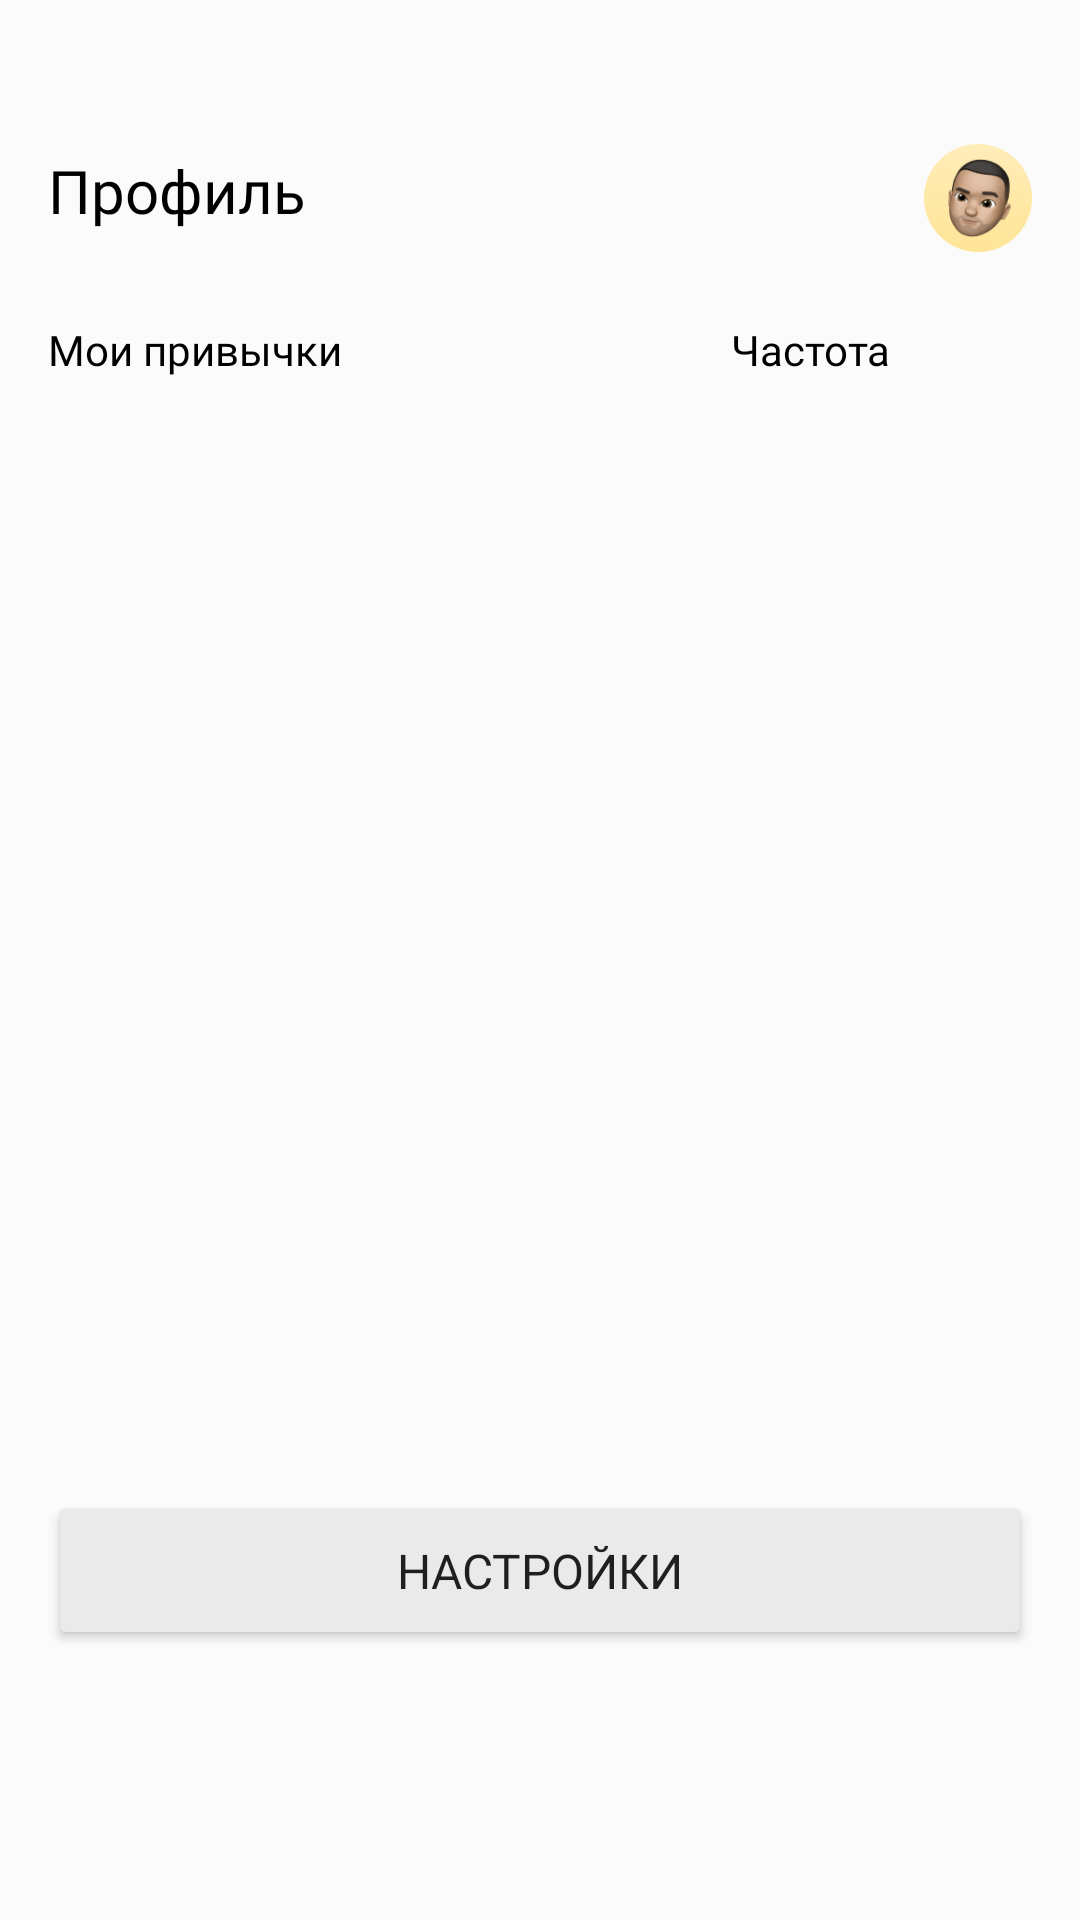

Where icons sit on this 1080 x 1920 app screen, as (x1, y1, x2, y2):
person: (924, 144, 1032, 252)
